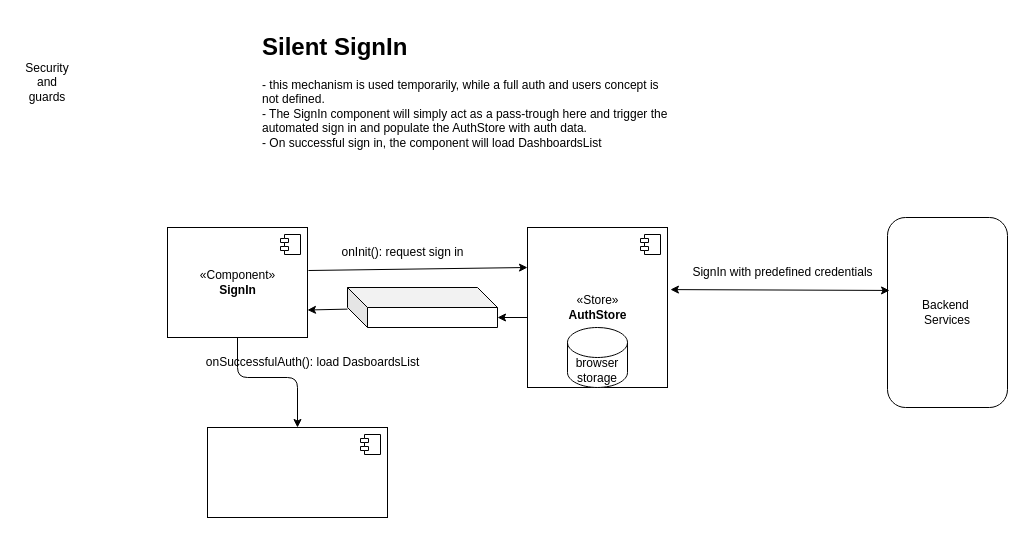
This 1025x535 diagram has some shape labels left out. Each missing label, with the centre of its shape:
"authContextObservable" goes at point 422,307.
"«Component» DashboardList" goes at point 297,472.
